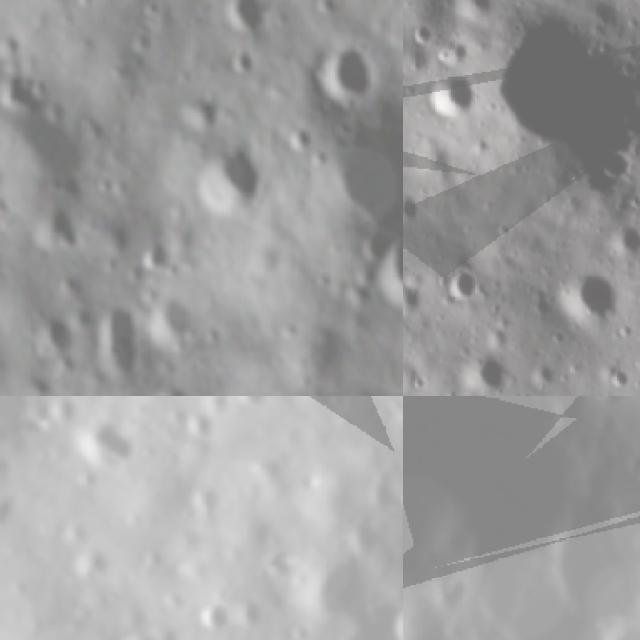crater: (472, 4, 640, 205), (509, 453, 640, 640), (282, 535, 390, 640), (341, 124, 403, 224), (68, 410, 142, 487), (542, 262, 622, 328), (414, 63, 488, 134), (403, 590, 499, 640), (203, 142, 258, 212), (320, 47, 380, 104), (62, 538, 120, 594), (322, 601, 403, 640), (96, 309, 139, 382), (432, 257, 487, 314), (453, 342, 510, 396), (180, 475, 233, 528), (443, 0, 512, 38), (218, 0, 285, 37), (38, 396, 94, 438), (191, 593, 240, 640), (28, 310, 68, 363), (215, 396, 279, 427), (158, 298, 198, 344), (101, 618, 181, 640), (608, 222, 640, 268), (0, 487, 25, 544), (388, 231, 403, 305), (403, 187, 426, 231), (359, 228, 387, 262)
